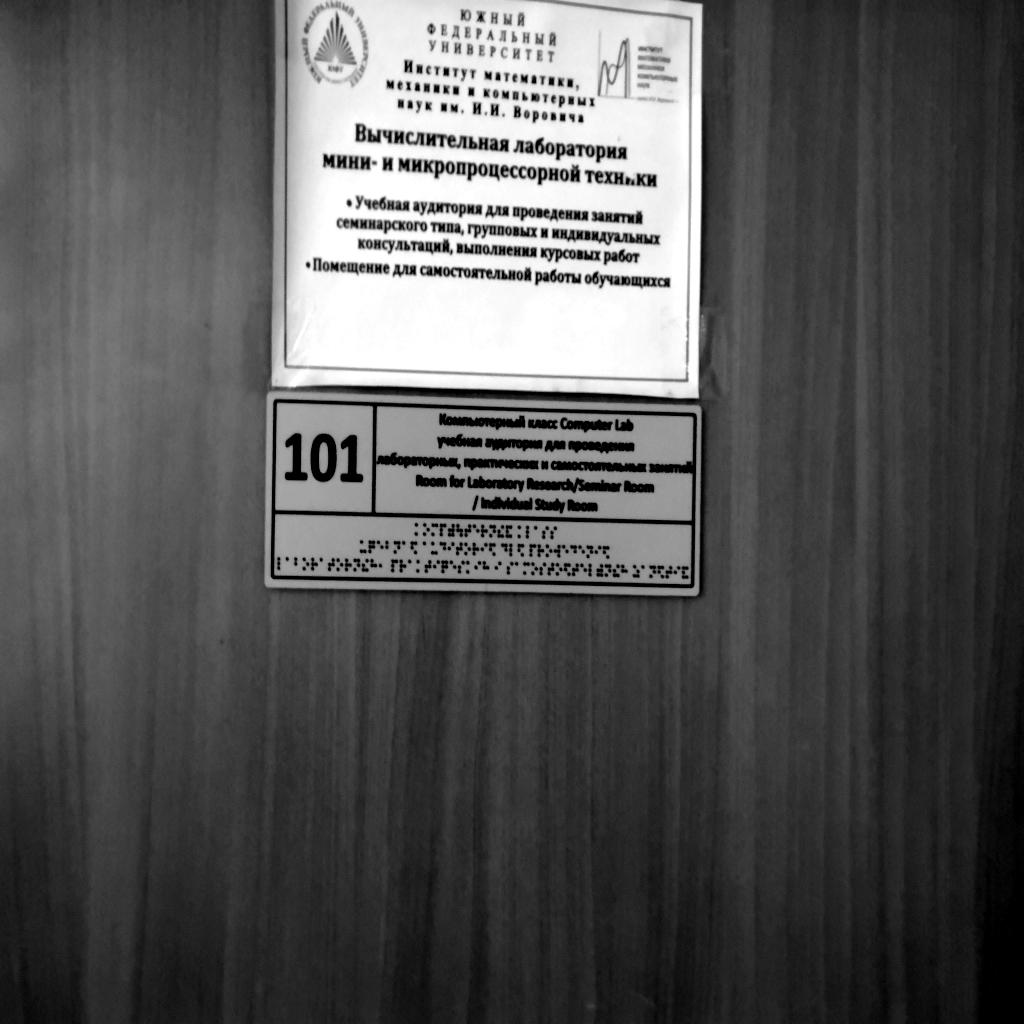_n: (649, 565, 657, 579), (489, 524, 496, 538), (394, 541, 401, 555), (587, 545, 594, 559), (353, 558, 360, 572), (604, 564, 611, 577)
_y: (360, 539, 367, 553), (431, 541, 438, 555)
a: (640, 565, 648, 578), (534, 525, 541, 539), (402, 541, 409, 555), (423, 541, 430, 555), (408, 559, 415, 573), (285, 557, 292, 570), (320, 558, 327, 570), (515, 561, 521, 575)
b: (385, 540, 392, 554), (294, 557, 301, 570)
ch: (441, 560, 448, 574), (368, 540, 375, 553)
d: (501, 543, 508, 556), (570, 545, 577, 558), (440, 541, 446, 555)
e: (449, 560, 457, 574), (562, 544, 569, 558), (580, 563, 587, 577), (578, 545, 585, 558), (473, 524, 479, 537), (377, 540, 383, 553)
i: (448, 542, 455, 556), (481, 542, 488, 556), (595, 545, 602, 559), (475, 561, 482, 575), (495, 561, 502, 575), (433, 560, 440, 573), (674, 566, 681, 579)
iKratkoe: (682, 566, 689, 580), (506, 525, 513, 538)
ii: (362, 558, 369, 572), (613, 564, 620, 577), (498, 525, 504, 538)
k: (416, 560, 423, 574), (466, 561, 473, 574), (518, 526, 524, 540), (415, 523, 421, 536)
l: (525, 525, 533, 539), (588, 563, 595, 577), (509, 544, 516, 557), (277, 557, 284, 570)
m: (431, 523, 438, 537), (523, 562, 530, 576)
myagkiy: (448, 523, 455, 537), (597, 564, 603, 577)
o: (546, 544, 553, 558), (302, 557, 309, 571), (336, 558, 343, 572), (556, 562, 563, 576), (423, 523, 430, 536), (531, 562, 538, 575), (465, 542, 471, 555)
p: (529, 544, 536, 558), (391, 559, 398, 573), (440, 523, 446, 537)
r: (481, 524, 488, 538), (345, 558, 352, 572), (400, 559, 407, 573), (311, 558, 318, 571), (473, 542, 479, 556), (538, 544, 544, 558)
s: (550, 526, 558, 540), (458, 560, 465, 574), (539, 562, 546, 576), (542, 526, 549, 539), (507, 562, 514, 575)
t: (464, 523, 471, 537), (328, 558, 335, 572), (456, 542, 463, 555), (572, 563, 579, 576), (425, 560, 431, 574), (666, 565, 672, 579), (548, 563, 554, 576)
u: (456, 524, 463, 537)
v: (554, 545, 561, 558)
x: (482, 560, 490, 575), (370, 558, 377, 572), (621, 564, 628, 578)
ya: (410, 541, 418, 555), (489, 543, 496, 557), (603, 545, 610, 559), (658, 566, 665, 579), (518, 543, 524, 557), (564, 563, 570, 576)
z: (633, 565, 640, 579)
zapyataya: (378, 558, 385, 573)
